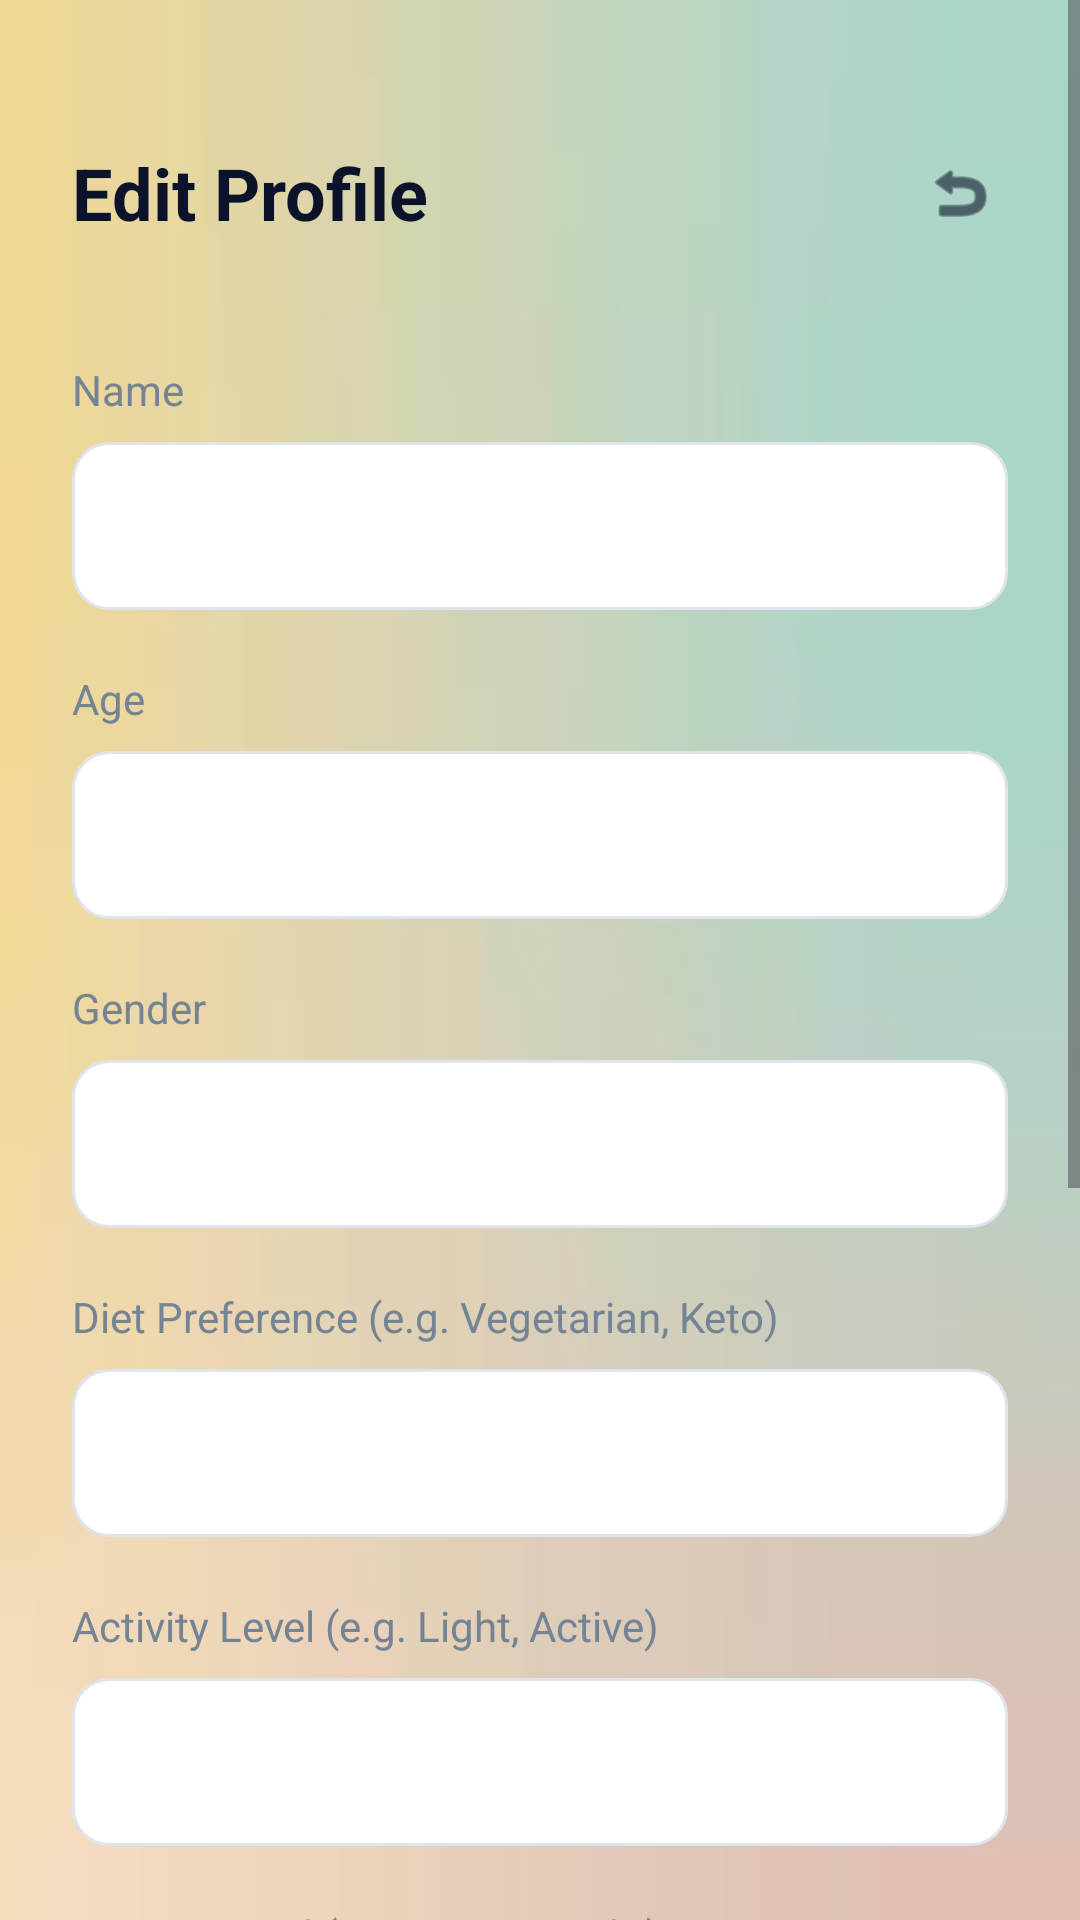

Point at icon controls on the screen. Image size 1080x1920, points as point (x, y).
revert: point (961, 193)
